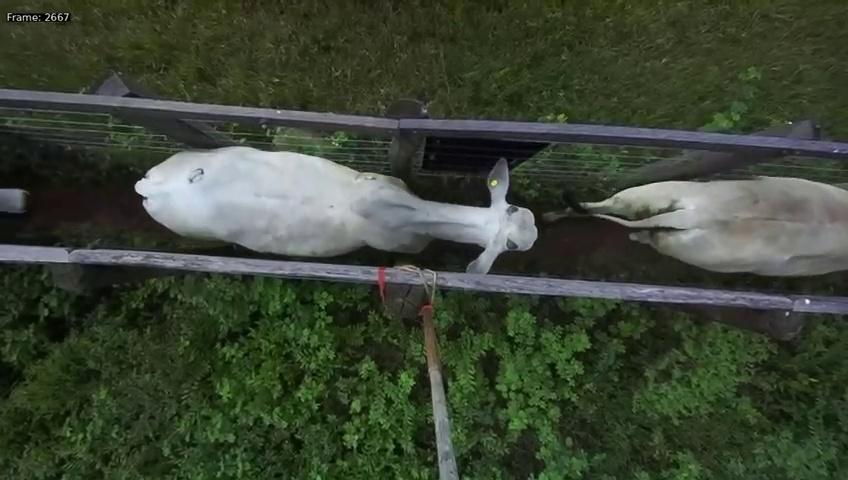cattle: (132, 133, 540, 274)
